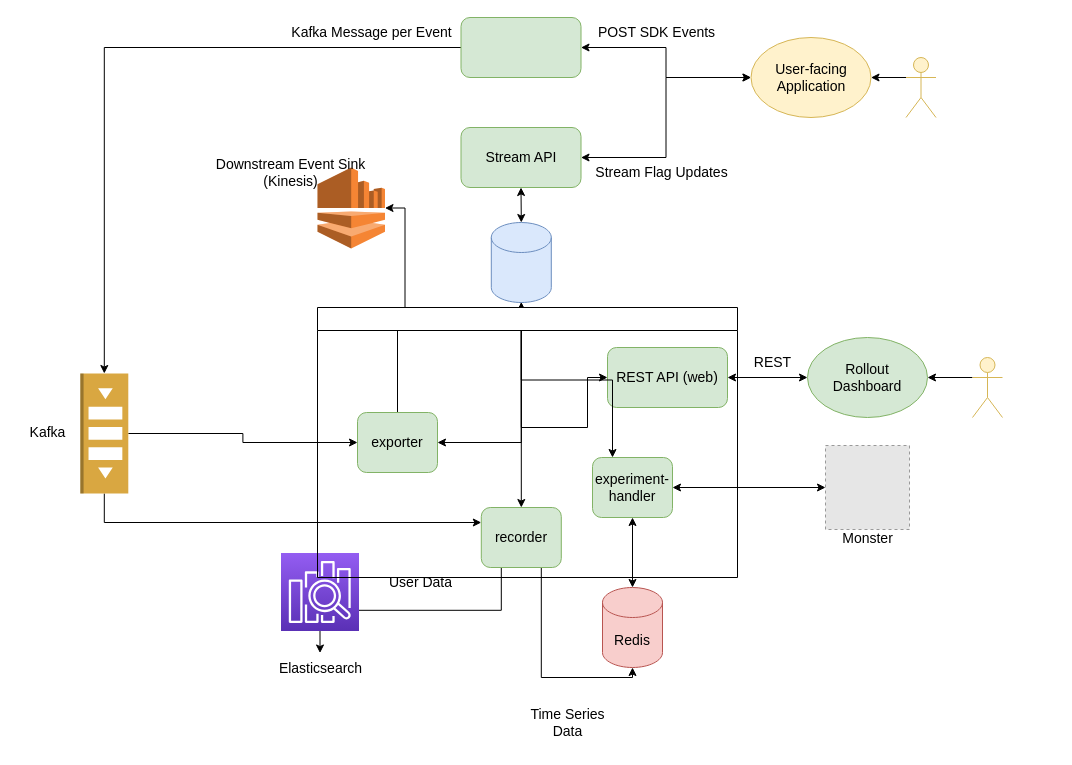
This 1072x765 diagram has some shape labels left out. Grey dashed boxes stand in for pictures. Here are the shapes that lost their labels. From the top down, the centre of each, then its label:
(x=520, y=47): Events API
(x=920, y=87): App User
(x=520, y=262): AWS RDS
(x=987, y=387): Rollout Project Owner
(x=527, y=442): FactSet.io Application "rollout-api"
